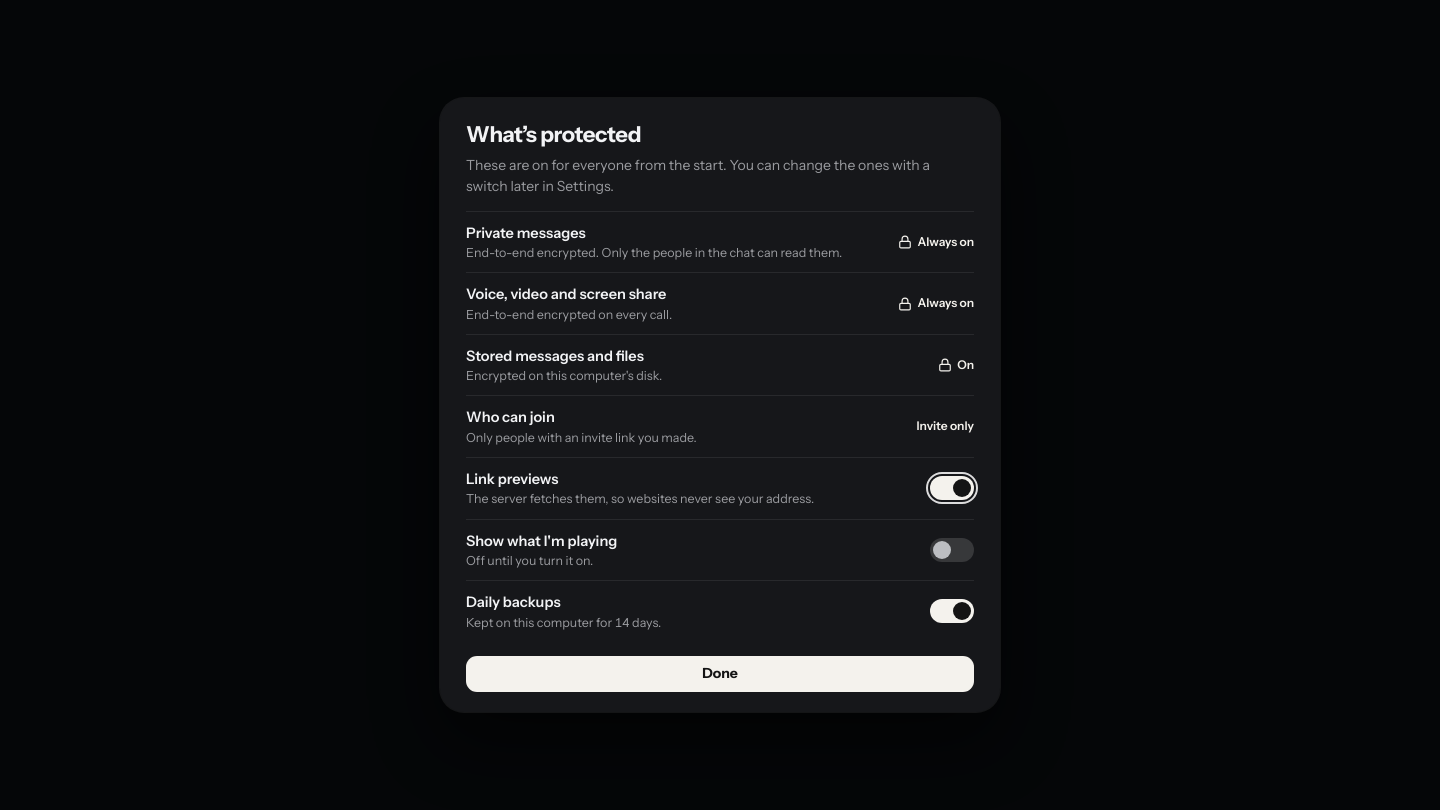
ProtectedSheet › shows the host rows and reverts a refused backup toggle
This screenshot has width=1440, height=810.
Check: the text "Invite only" is shown, box x1=917 y1=417 x2=974 y2=436
Check: the text "Kept on this computer for 14 days." is shown, box x1=466 y1=615 x2=661 y2=630
Click the switch named "Daily backups" at (952, 612), box x1=930 y1=600 x2=974 y2=624
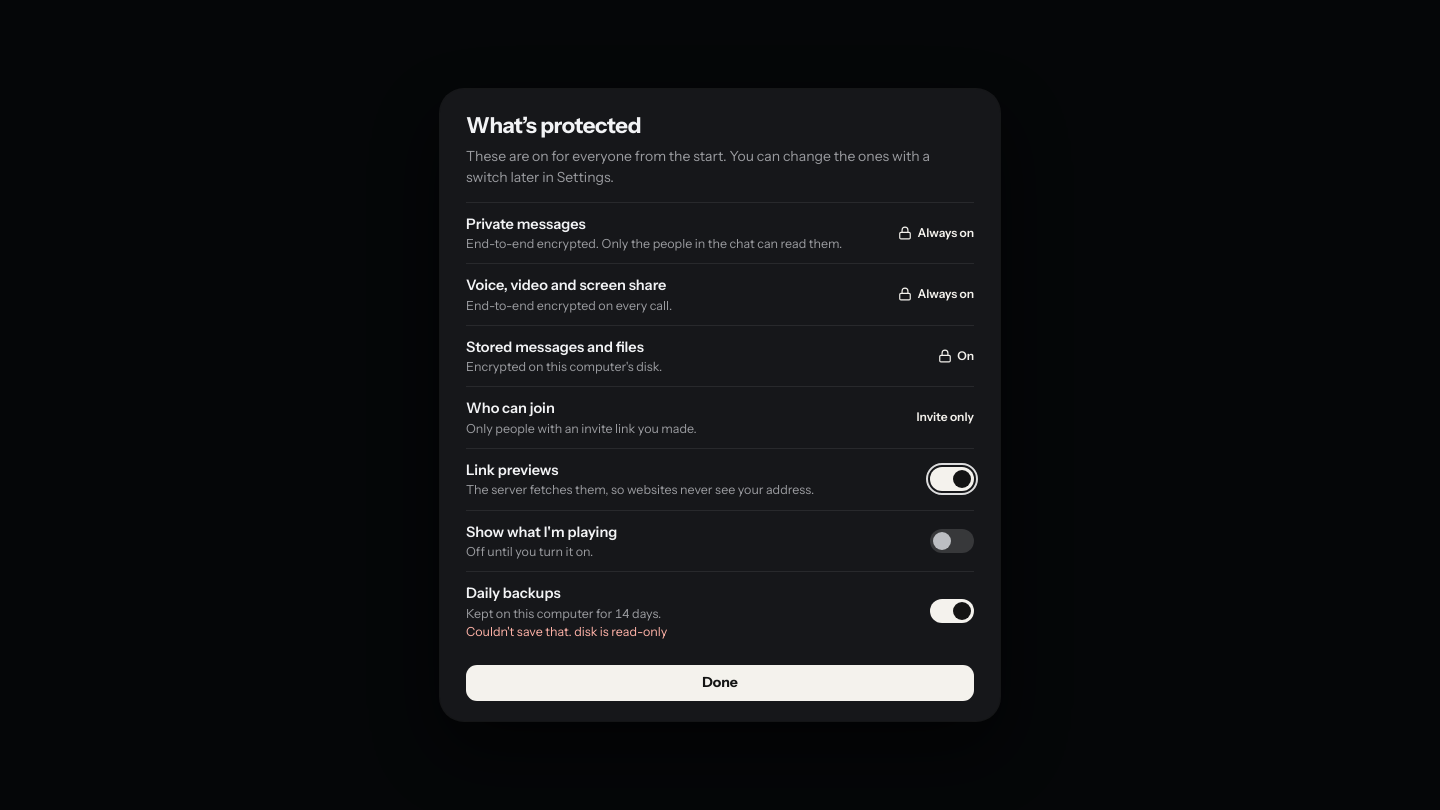
Check: the message shows "disk is read-only", box x1=466 y1=624 x2=667 y2=639
